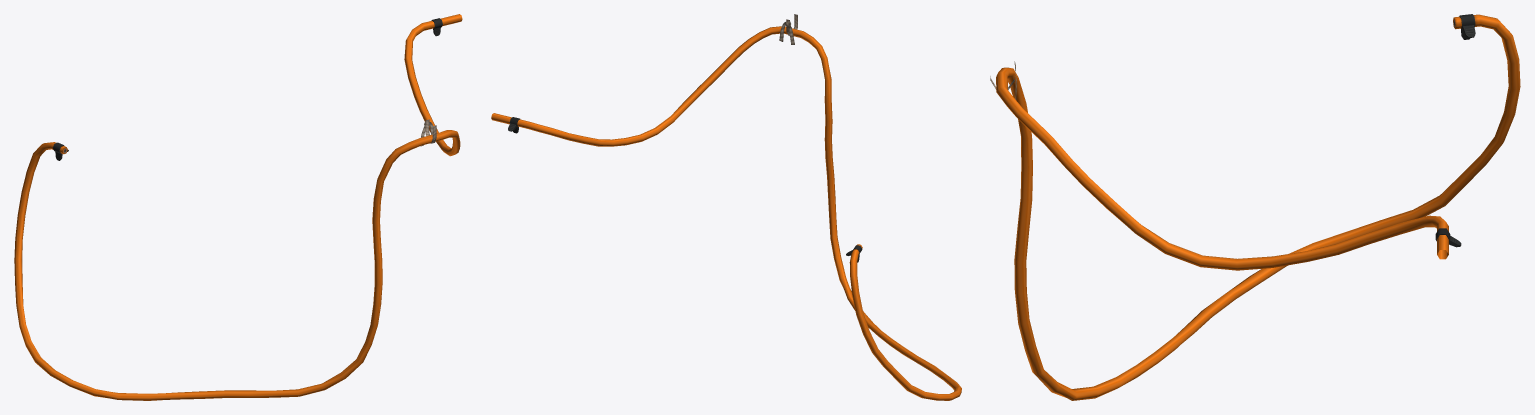
The model's file is jsf_GasRange_16d.fbx.
3 renders of one model, left to right at view 1: azimuth 30°, elevation 25°; view 2: azimuth 150°, elevation 25°; view 3: azimuth 270°, elevation 25°, orthographic. The views are drawn at different scales.
Visible parts, largest first — view 1: GasHose; view 2: GasHose; view 3: GasHose.
Boxes of the visible parts, box(x1,y1,x2,y2) form: GasHose: box(14, 14, 462, 400); GasHose: box(491, 14, 961, 400); GasHose: box(990, 14, 1520, 400).
Size of the model in its own units: 119 by 68.15 by 77.86.
